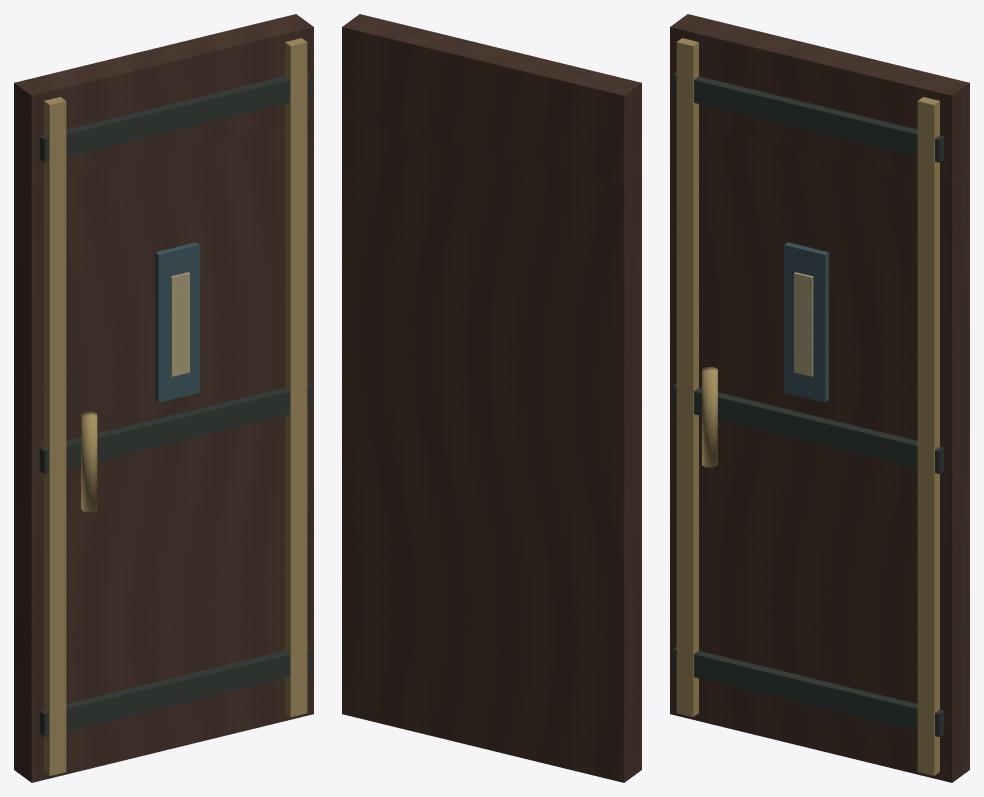
The model's file is archive_gate_right.glb.
3 views of the same model, side by side, from view 1: azimuth 30°, elevation 25°; view 2: azimuth 150°, elevation 25°; view 3: azimuth 330°, elevation 25° (orthographic).
Parts seen in each view (by area): view 1: Scripture_Timber, Scripture_Bronze, Scripture_Iron, Scripture_Indigo, Scripture_Paper; view 2: Scripture_Timber; view 3: Scripture_Timber, Scripture_Bronze, Scripture_Iron, Scripture_Indigo, Scripture_Paper.
Part boxes in pixels (x1=…): Scripture_Timber: x1=14, y1=14, x2=313, y2=782; Scripture_Bronze: x1=44, y1=38, x2=307, y2=775; Scripture_Iron: x1=39, y1=72, x2=311, y2=736; Scripture_Indigo: x1=155, y1=242, x2=199, y2=402; Scripture_Paper: x1=170, y1=272, x2=189, y2=376; Scripture_Timber: x1=342, y1=14, x2=641, y2=782; Scripture_Timber: x1=670, y1=14, x2=969, y2=782; Scripture_Bronze: x1=676, y1=38, x2=939, y2=775; Scripture_Iron: x1=672, y1=72, x2=944, y2=736; Scripture_Indigo: x1=784, y1=242, x2=828, y2=402; Scripture_Paper: x1=794, y1=272, x2=813, y2=376.
Size of the model in its own units: 1.1 by 2.56 by 0.208.
Materials: 5 (2 with a texture image).
